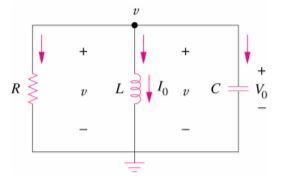Capacitor: (222, 74, 248, 101)
